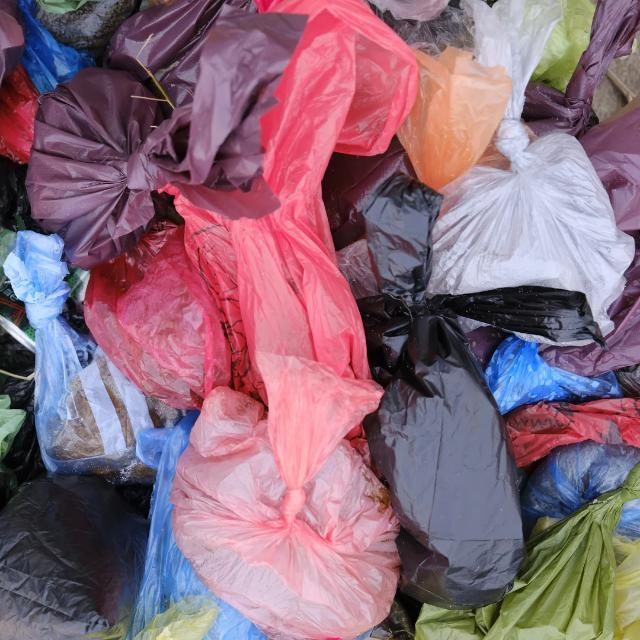Bolsa-de-nilon: (429, 0, 634, 335), (172, 388, 399, 640), (365, 315, 522, 608), (26, 69, 161, 269), (398, 48, 511, 190)
